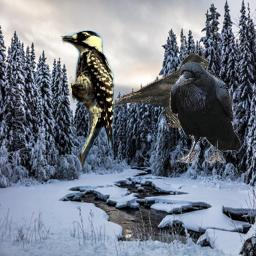Crow: (112, 53, 209, 129), (169, 61, 241, 163)
Woodpecker: (59, 30, 117, 169)
